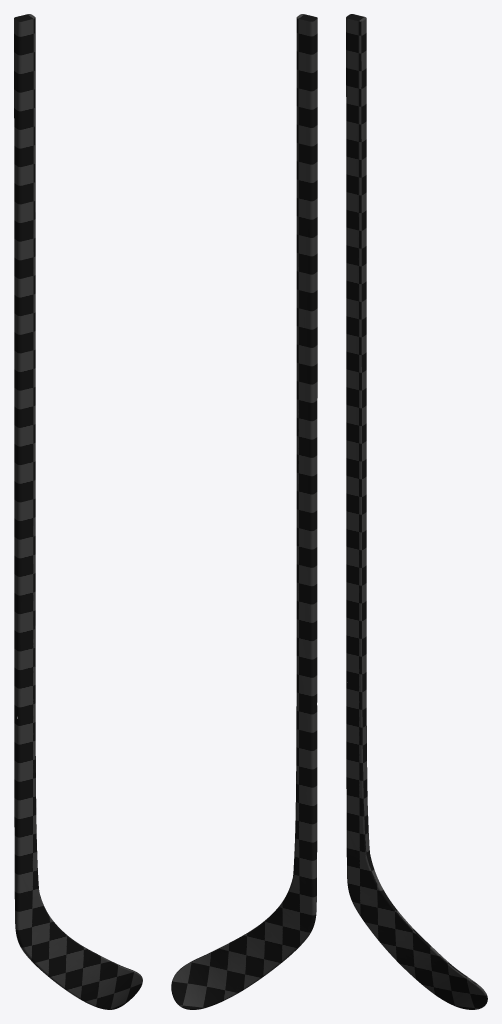
3 views of the same model, side by side, from view 1: azimuth 30°, elevation 25°; view 2: azimuth 150°, elevation 25°; view 3: azimuth 330°, elevation 25° (orthographic). The views are drawn at different scales.
Visible parts, largest first — view 1: geometry_0; view 2: geometry_0; view 3: geometry_0.
Part boxes in pixels (x1,y1,x2,y2): geometry_0: (14,14,142,1009); geometry_0: (171,14,317,1009); geometry_0: (346,14,487,1009).
Size of the model in its own units: 230 by 1650 by 51.32.
1 material, 1 textured.
